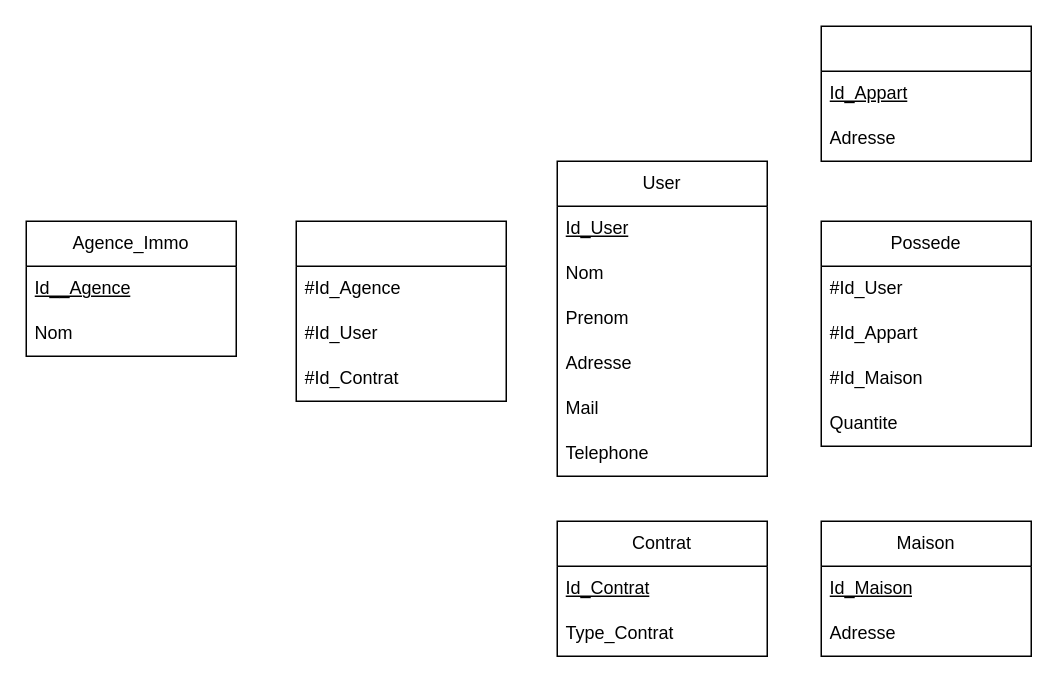
Some shapes in this 1058 by 683 pixel diagram are drawn without their labels. Each missing label, with the box of its shape:
Appartement: (820, 25, 1031, 161)
Client: (295, 220, 506, 401)
